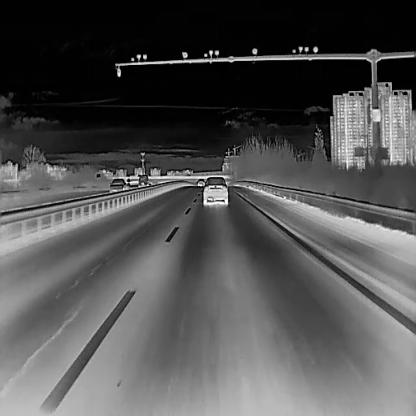car: (203, 176, 227, 205), (109, 178, 126, 191), (136, 173, 149, 187), (196, 180, 205, 185)
